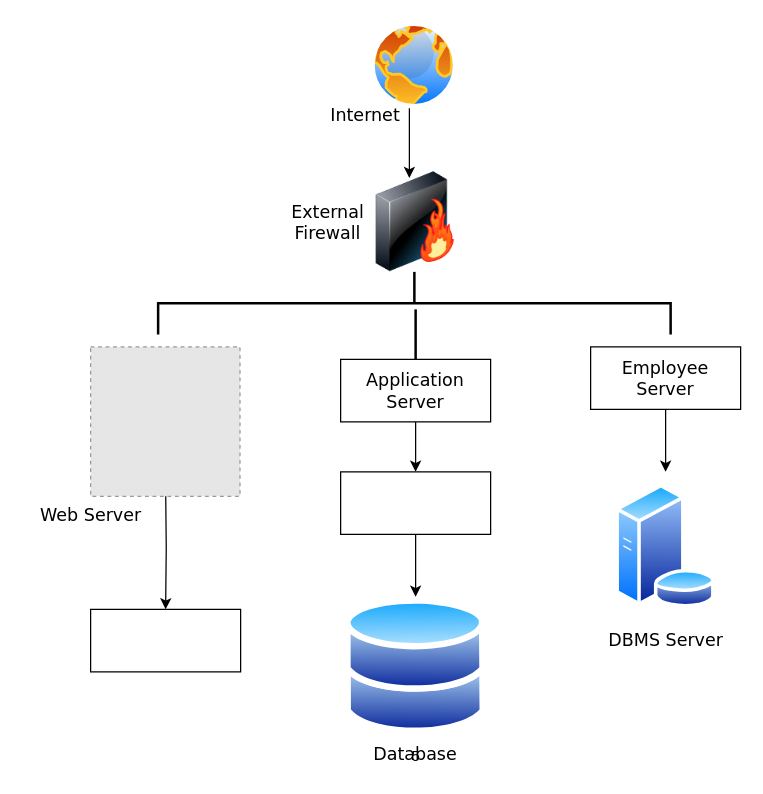
The diagram is 763 pixels wide and 794 high, and some of its shapes have lost their labels. Grey dashed boxes stand in for pictures. Each missing label, with the centre of its shape:
"Email Server" belongs at (165,640).
"IDS/IPS Server" belongs at (415,502).
